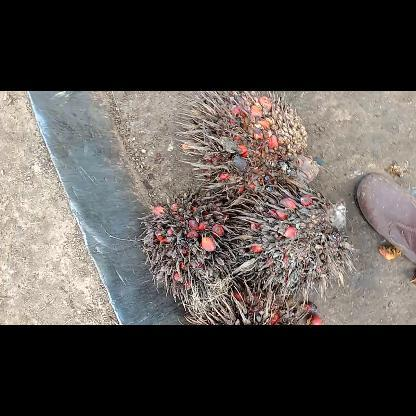Terlalu masak: (223, 175, 358, 309), (173, 90, 326, 196), (134, 188, 254, 306)
